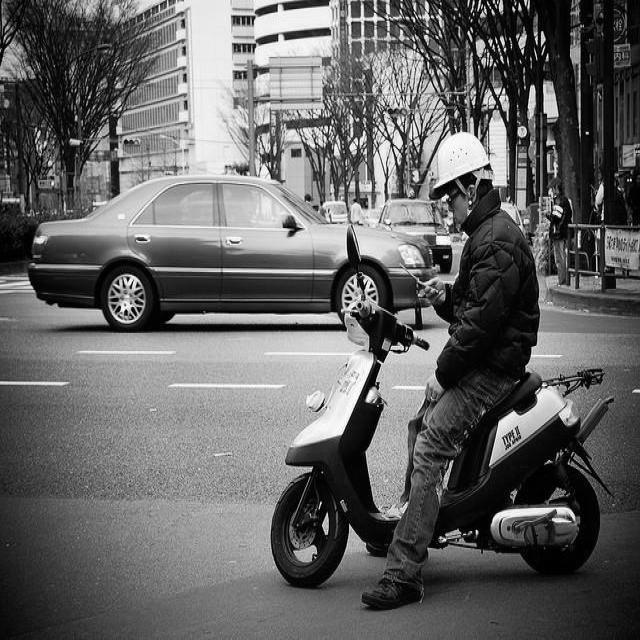vehicle: (272, 227, 620, 590), (27, 172, 437, 332), (374, 197, 454, 273), (323, 201, 349, 223)
